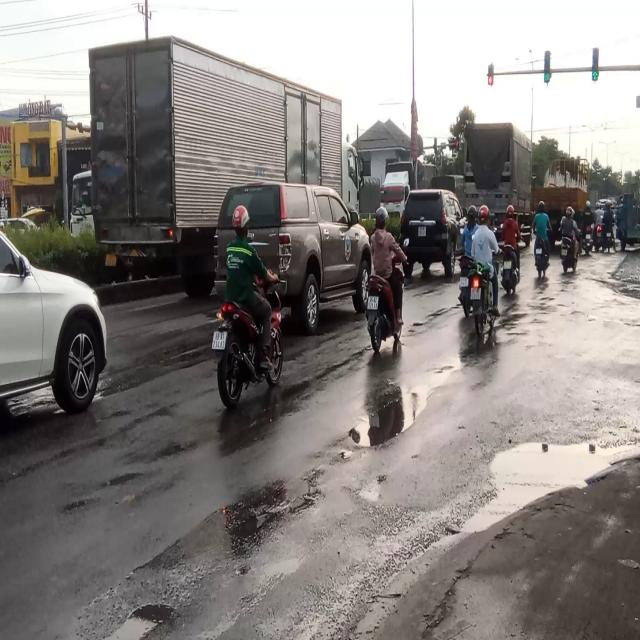bien_trang: (208, 325, 227, 356)
